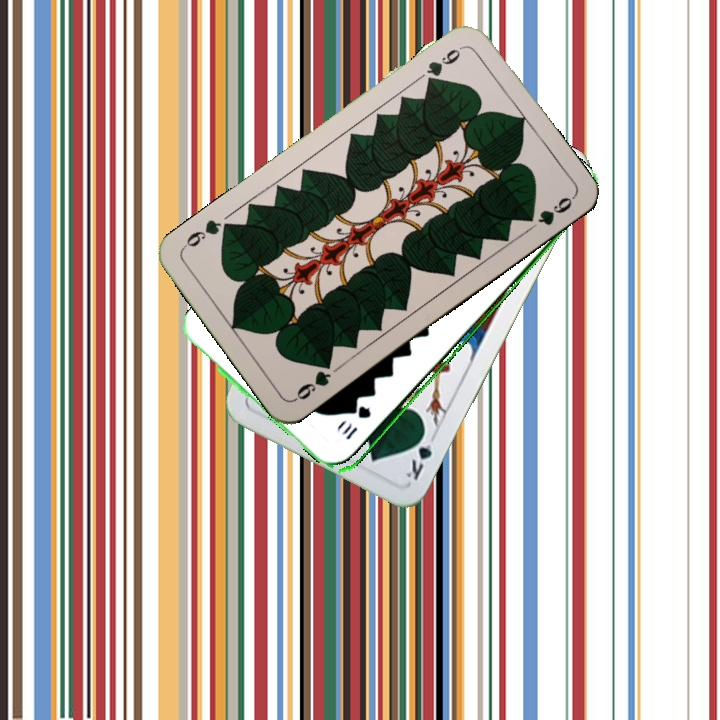G10: (341, 402, 374, 443)
G9: (290, 356, 335, 404), (422, 42, 466, 88)
GK: (401, 426, 439, 482)
